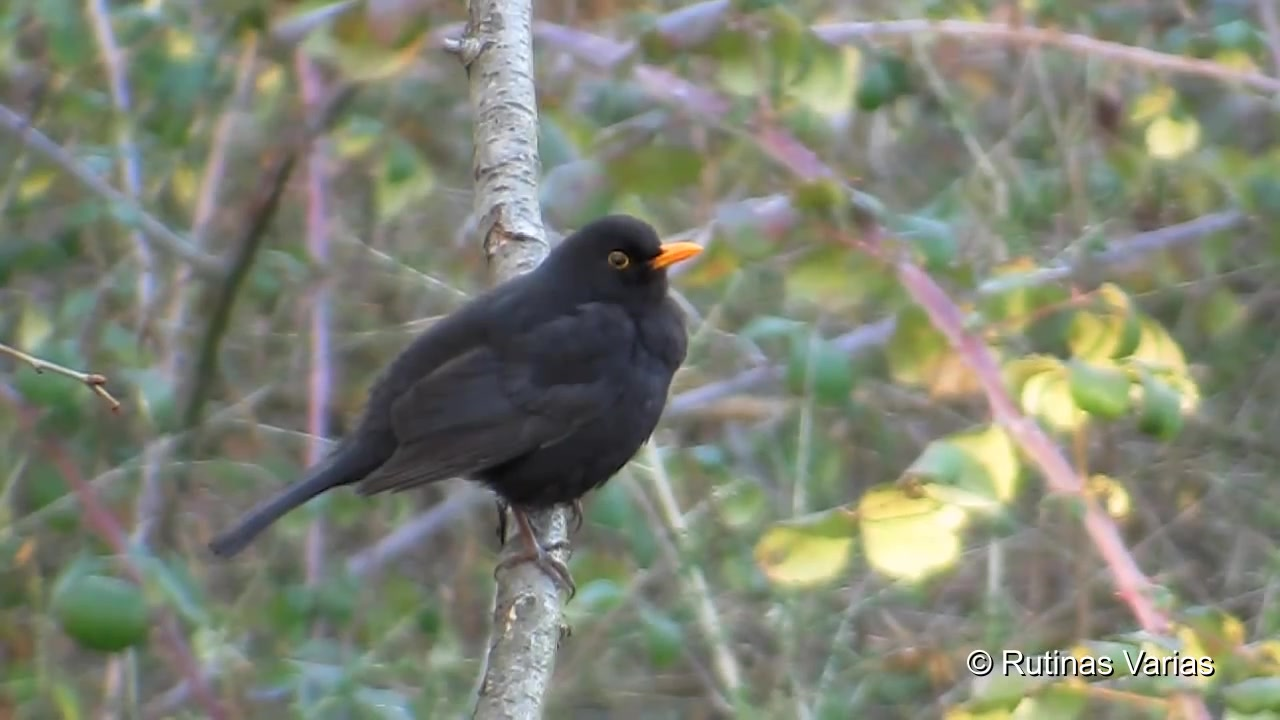bird: (206, 215, 706, 608)
